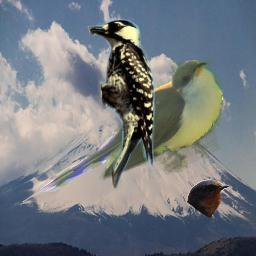Cuckoo: (37, 60, 223, 192)
Swallow: (186, 179, 231, 218)
Woodpecker: (86, 19, 158, 190)
